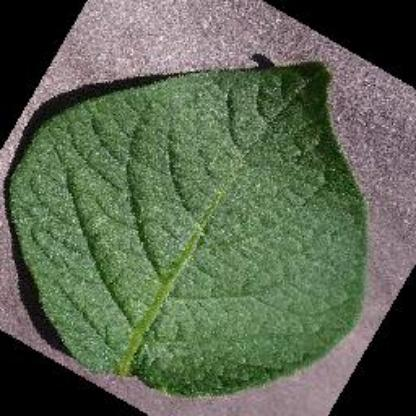Healthy-plant: (5, 44, 381, 402)
